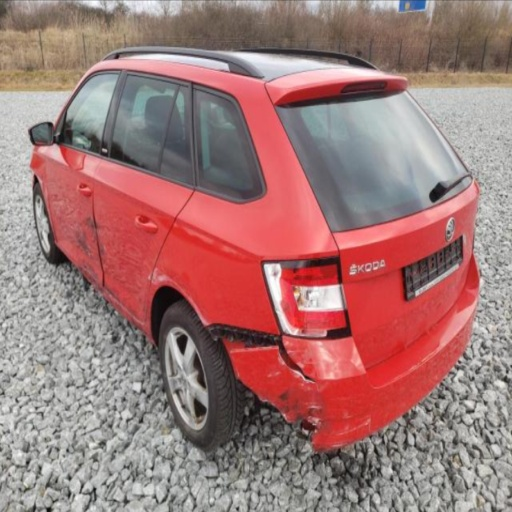scratch: (245, 384, 323, 438), (148, 266, 209, 327), (393, 349, 438, 380), (335, 415, 372, 437), (299, 403, 322, 436), (186, 296, 209, 327), (317, 344, 336, 378), (230, 345, 279, 353), (334, 408, 358, 420), (279, 391, 288, 415), (266, 370, 283, 378), (340, 413, 358, 420), (329, 443, 348, 449), (306, 402, 322, 409), (297, 360, 305, 369), (285, 342, 289, 345)
